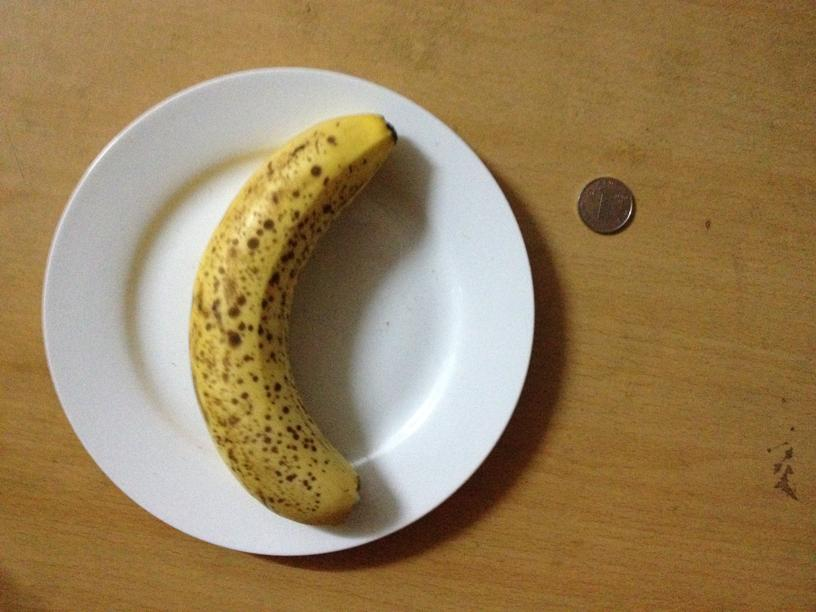banana: (180, 113, 395, 517)
coin: (575, 173, 637, 236)
